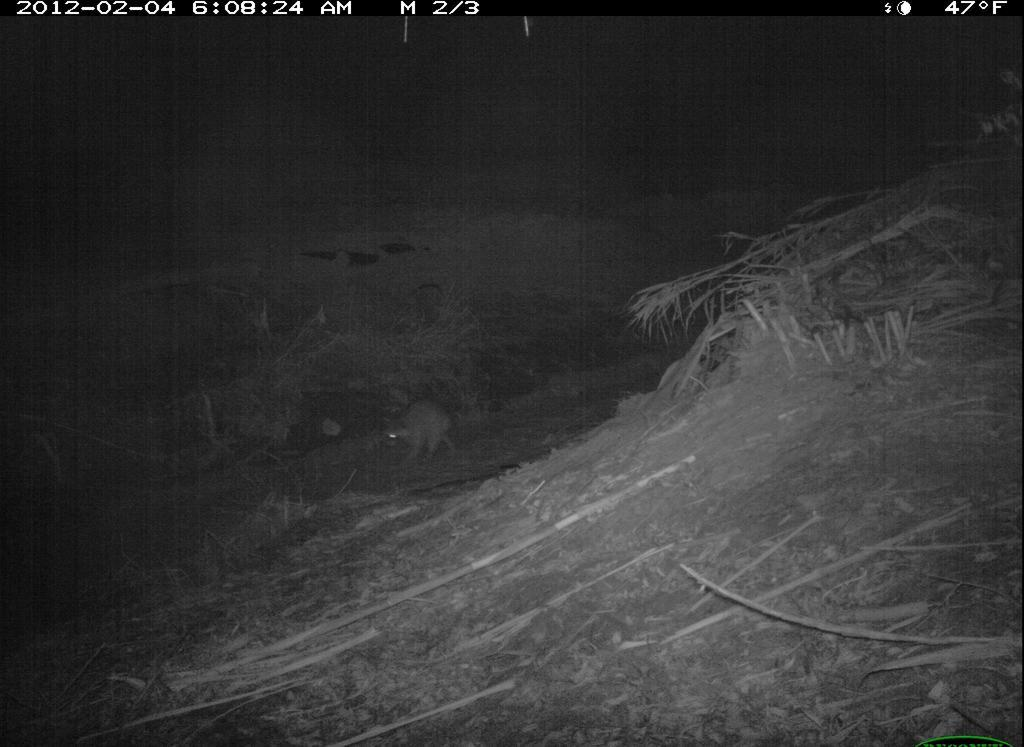raccoon: (369, 381, 474, 493)
